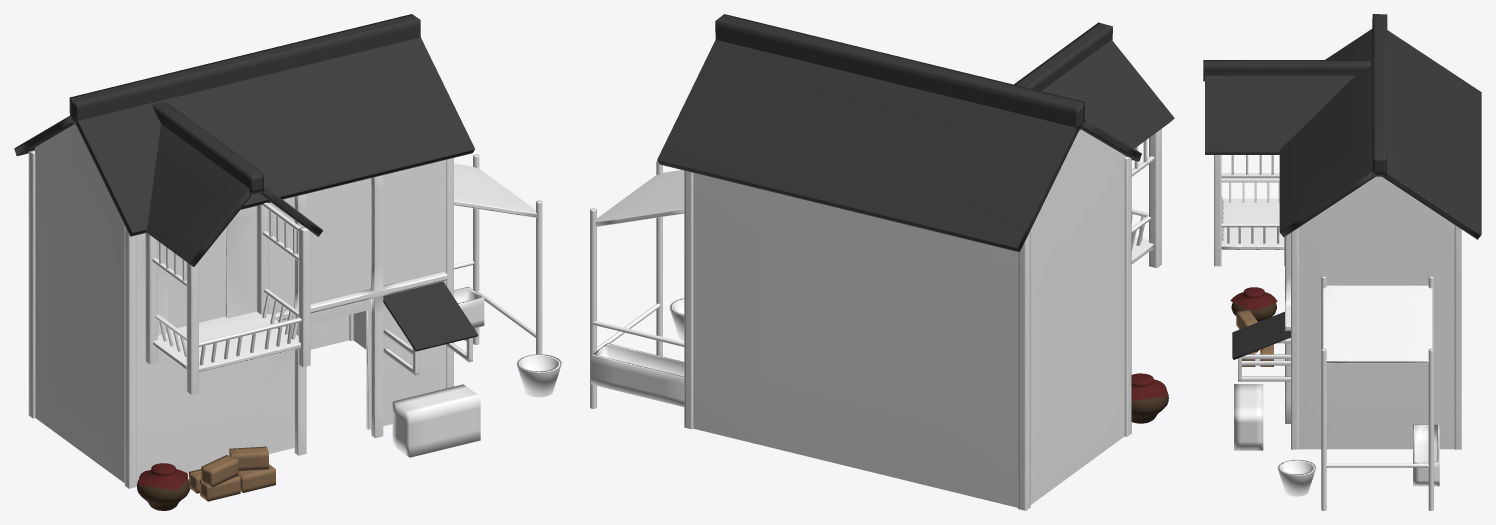
File: horse-station.fbx
3 views of the same model, side by side, from view 1: azimuth 30°, elevation 25°; view 2: azimuth 150°, elevation 25°; view 3: azimuth 270°, elevation 25° (orthographic). The views are drawn at different scales.
Parts seen in each view (by area): view 1: 驿站; view 2: 驿站; view 3: 驿站.
Part boxes in pixels (left/top/right/bottom): 驿站: left=14, top=14, right=561, bottom=510; 驿站: left=590, top=14, right=1174, bottom=510; 驿站: left=1203, top=14, right=1481, bottom=510.
Bounding box in the file's own units: 236 × 150 × 188.
